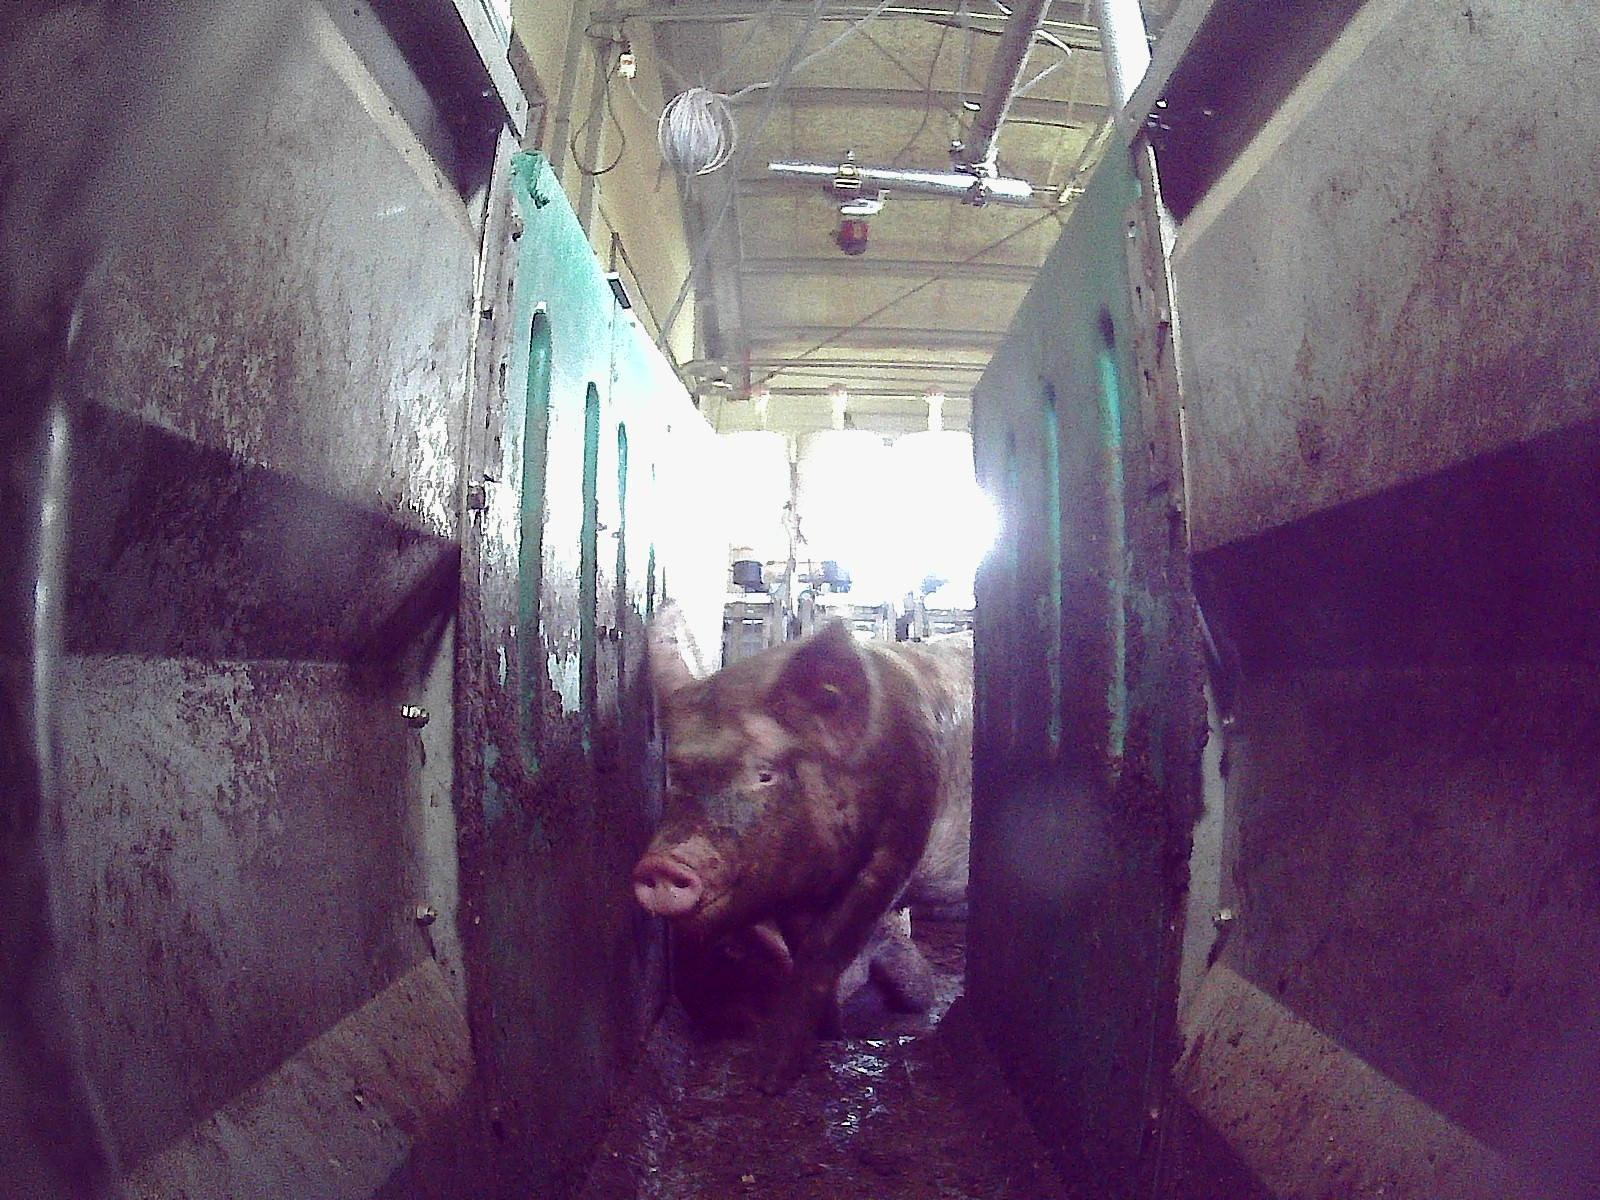Face: (632, 677, 823, 938)
